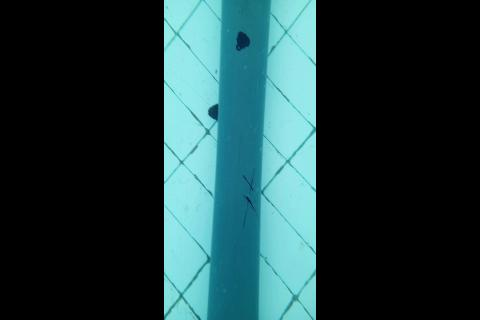kebocoran: (236, 30, 251, 52)
keretakan: (242, 168, 258, 229)
